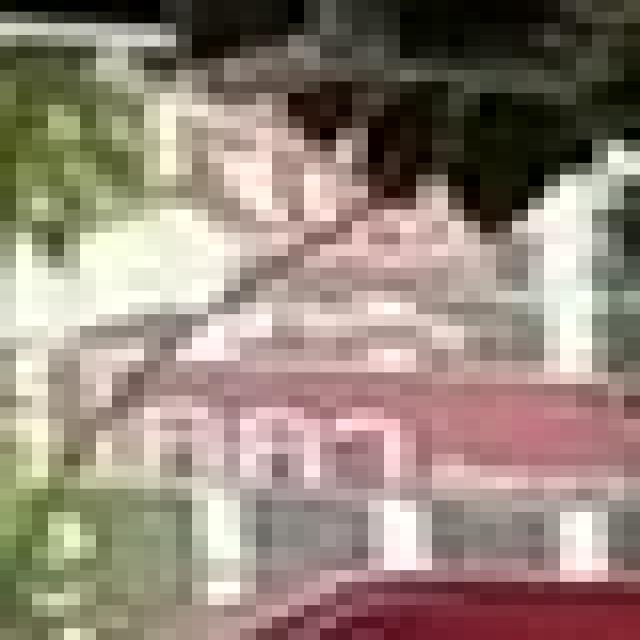tyre: (224, 558, 624, 628)
